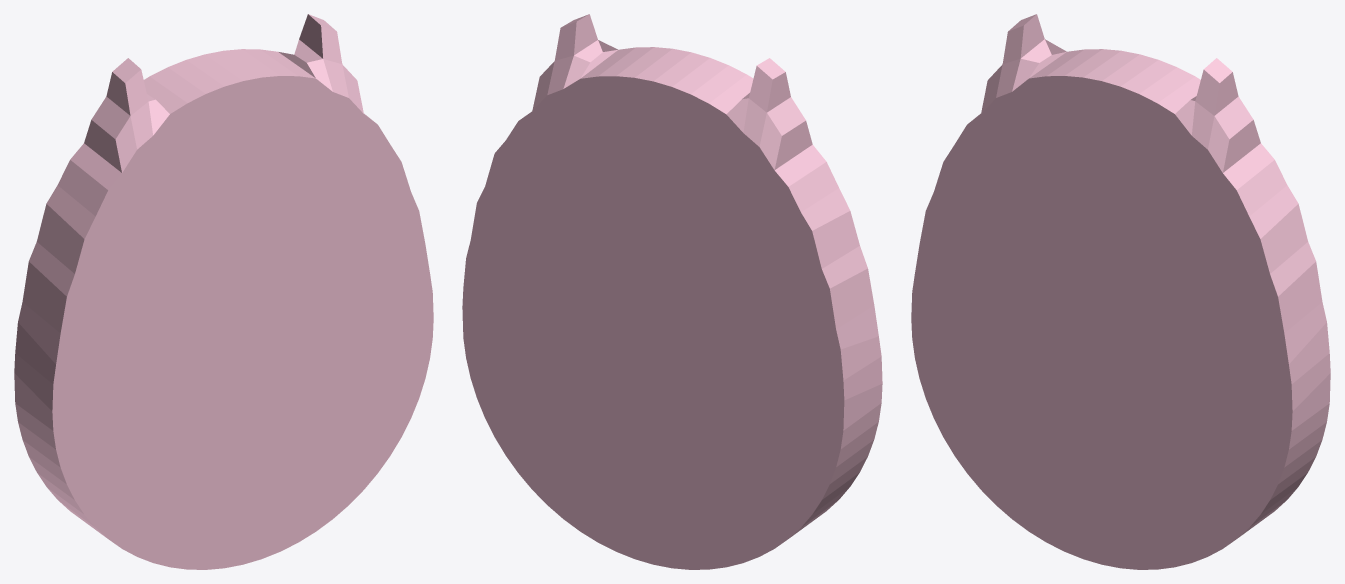
File: head_05.glb
3 renders of one model, left to right at view 1: azimuth 30°, elevation 25°; view 2: azimuth 150°, elevation 25°; view 3: azimuth 330°, elevation 25°, orthographic.
Visible parts, largest first — view 1: head_05; view 2: head_05; view 3: head_05.
Boxes of the visible parts, bbox=[...] form: head_05: bbox=[14, 14, 433, 569]; head_05: bbox=[462, 14, 882, 569]; head_05: bbox=[911, 14, 1330, 569].
Bounding box in the file's own units: 2.23 × 2.85 × 0.3857.
